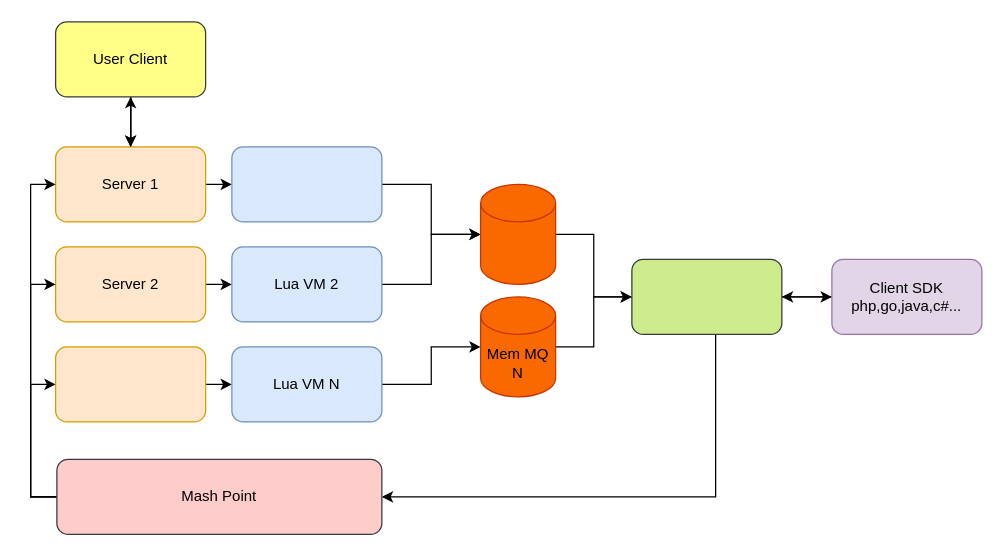
Some shapes in this 1004 by 556 pixel diagram are drawn without their labels. Each missing label, with the box of its shape:
Control Protocol: (631, 258, 782, 334)
Lua VM 1: (231, 146, 382, 222)
Mem MQ 1: (479, 183, 556, 284)
Server N: (54, 346, 206, 422)
